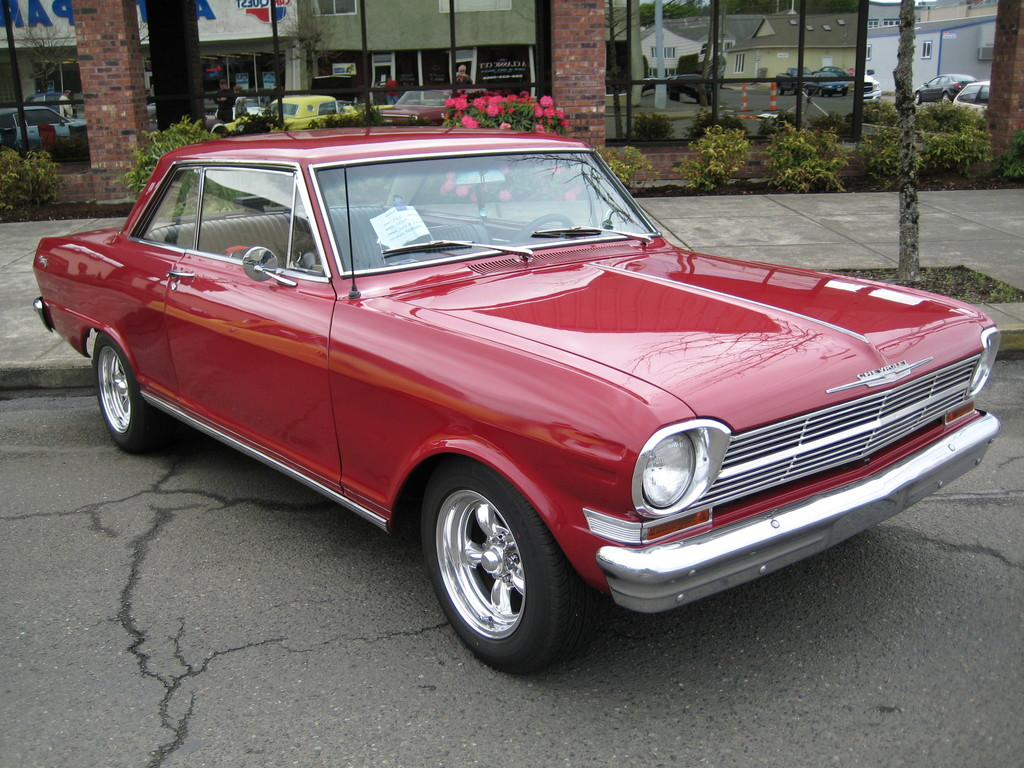Car: (31, 122, 1003, 675), (912, 71, 970, 103), (952, 81, 990, 121), (859, 68, 879, 103)
